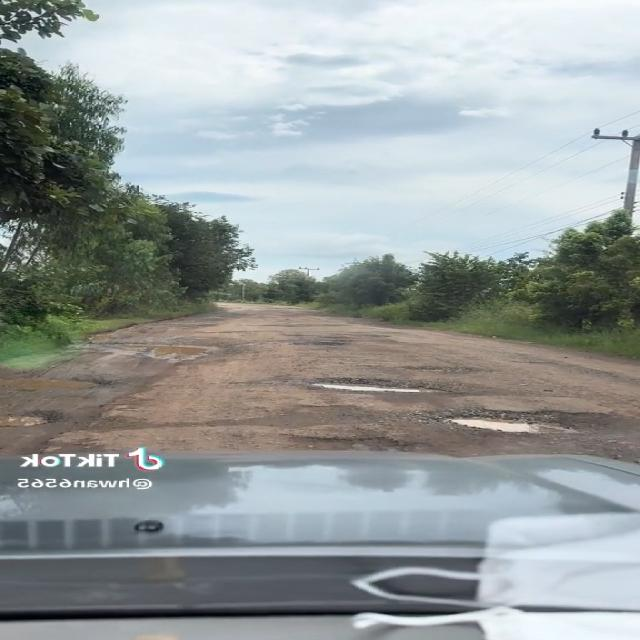Poth-hole: (335, 332, 413, 386)
